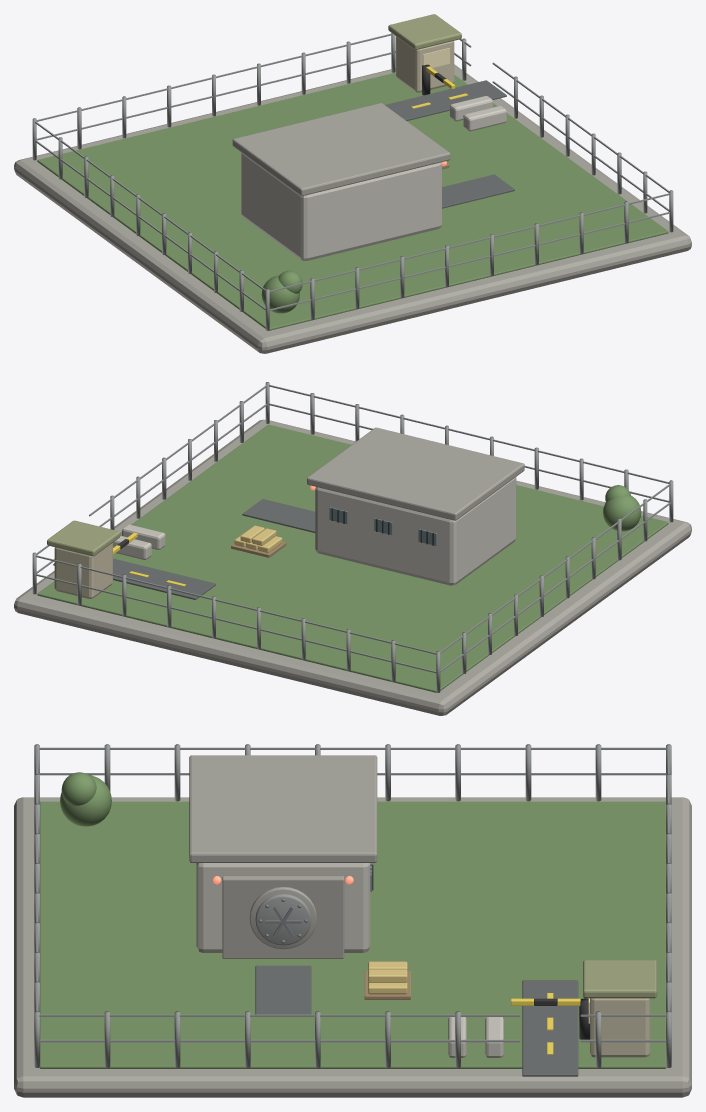
Rendered from goldvault_3.glb.
3 renders of one model, top to bottom at view 1: azimuth 30°, elevation 25°; view 2: azimuth 150°, elevation 25°; view 3: azimuth 270°, elevation 25°, orthographic. The views are drawn at different scales.
Visible parts, largest first — view 1: Cube.001, Cube, Cube.014, Cube.015, Cube.002, Cube.006, Cube.007, Cube.038, Cube.040, Cube.045, Cube.044, Cube.039 (+5 smaller); view 2: Cube.001, Cube, Cube.014, Cube.015, Cube.006, Cube.002, Cube.007, Cube.038, Sphere.010, Cube.045, Cube.039, Cube.044 (+5 smaller); view 3: Cube.001, Cube, Cube.015, Cube.016, Cube.014, Cube.002, Cube.006, Cube.007, Cube.038, Cylinder.002, Cube.043, Cube.046 (+7 smaller).
Boxes of the visible parts, x1=… form: Cube.001: x1=37, y1=72, x2=668, y2=330; Cube: x1=14, y1=64, x2=691, y2=353; Cube.014: x1=241, y1=152, x2=441, y2=260; Cube.015: x1=232, y1=103, x2=450, y2=196; Cube.002: x1=385, y1=80, x2=506, y2=120; Cube.006: x1=396, y1=36, x2=454, y2=92; Cube.007: x1=388, y1=14, x2=461, y2=49; Cube.038: x1=442, y1=174, x2=514, y2=208; Cube.040: x1=269, y1=212, x2=669, y2=310; Cube.045: x1=269, y1=193, x2=669, y2=292; Cube.044: x1=36, y1=33, x2=392, y2=121; Cube.039: x1=36, y1=51, x2=395, y2=140; Cube.001: x1=37, y1=424, x2=668, y2=692; Cube: x1=14, y1=419, x2=691, y2=715; Cube.014: x1=315, y1=477, x2=516, y2=585; Cube.015: x1=307, y1=427, x2=524, y2=520; Cube.006: x1=54, y1=543, x2=112, y2=598; Cube.002: x1=53, y1=558, x2=215, y2=599; Cube.007: x1=47, y1=520, x2=120, y2=556; Cube.038: x1=242, y1=499, x2=315, y2=532; Sphere.010: x1=603, y1=495, x2=641, y2=531; Cube.045: x1=269, y1=384, x2=669, y2=483; Cube.039: x1=36, y1=574, x2=436, y2=673; Cube.044: x1=36, y1=555, x2=436, y2=654; Cube.001: x1=39, y1=801, x2=666, y2=1068; Cube: x1=14, y1=797, x2=691, y2=1097; Cube.015: x1=189, y1=755, x2=377, y2=862; Cube.016: x1=222, y1=875, x2=344, y2=958; Cube.014: x1=196, y1=863, x2=370, y2=952; Cube.002: x1=522, y1=980, x2=578, y2=1076; Cube.006: x1=590, y1=998, x2=650, y2=1057; Cube.007: x1=583, y1=960, x2=657, y2=998; Cube.038: x1=255, y1=965, x2=311, y2=1014; Cylinder.002: x1=255, y1=894, x2=311, y2=945; Cube.043: x1=39, y1=1039, x2=520, y2=1042; Cube.046: x1=39, y1=747, x2=666, y2=749.
Bounding box in the file's own units: 2.92 × 0.615 × 2.92.
